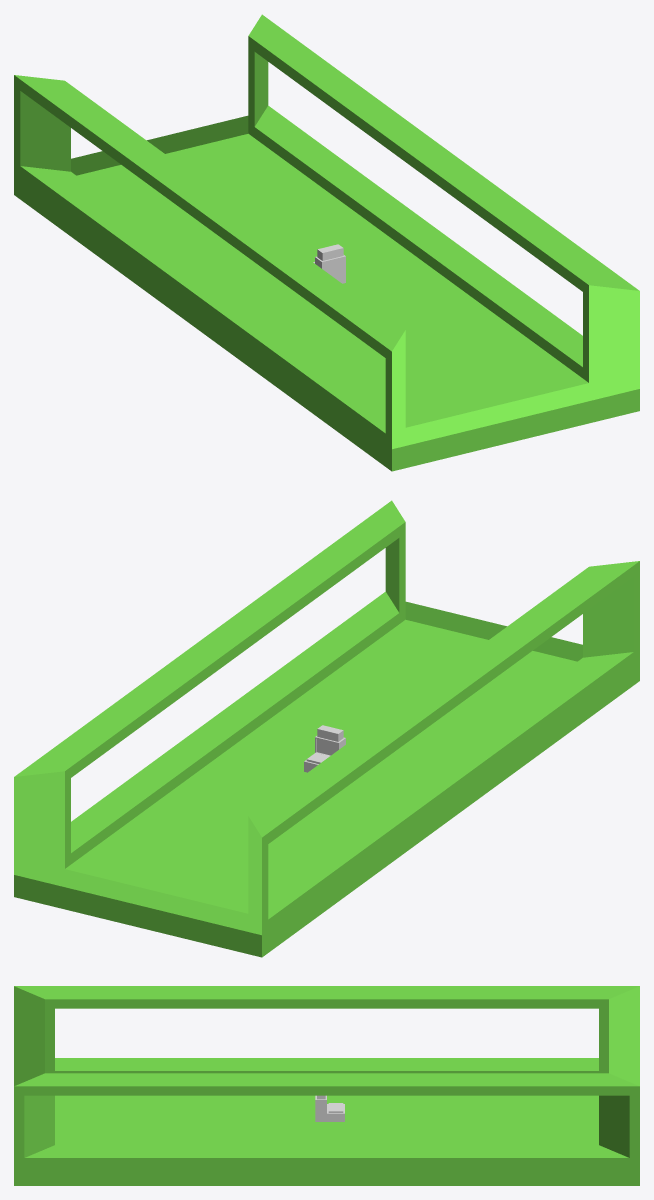
File: train.gltf
3 views of the same model, one above another, from view 1: azimuth 30°, elevation 25°; view 2: azimuth 150°, elevation 25°; view 3: azimuth 270°, elevation 25° (orthographic). The views are drawn at different scales.
Parts seen in each view (by area): view 1: train, Chair; view 2: train, Chair; view 3: train, Chair.
Boxes of the visible parts, bbox=[...] form: train: bbox=[14, 14, 639, 471]; Chair: bbox=[313, 244, 345, 283]; train: bbox=[14, 500, 639, 957]; Chair: bbox=[304, 725, 345, 772]; train: bbox=[14, 986, 639, 1185]; Chair: bbox=[315, 1095, 344, 1121].
Size of the model in its own units: 7.07 by 3.27 by 18.65.
